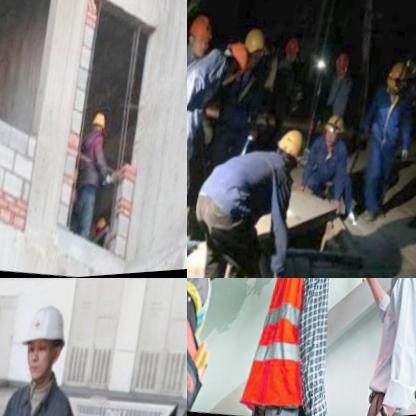helmet: (13, 296, 75, 390), (217, 42, 251, 87), (187, 12, 217, 61), (274, 127, 308, 170), (381, 65, 410, 107), (321, 114, 349, 156), (86, 109, 113, 150), (242, 29, 269, 69)
